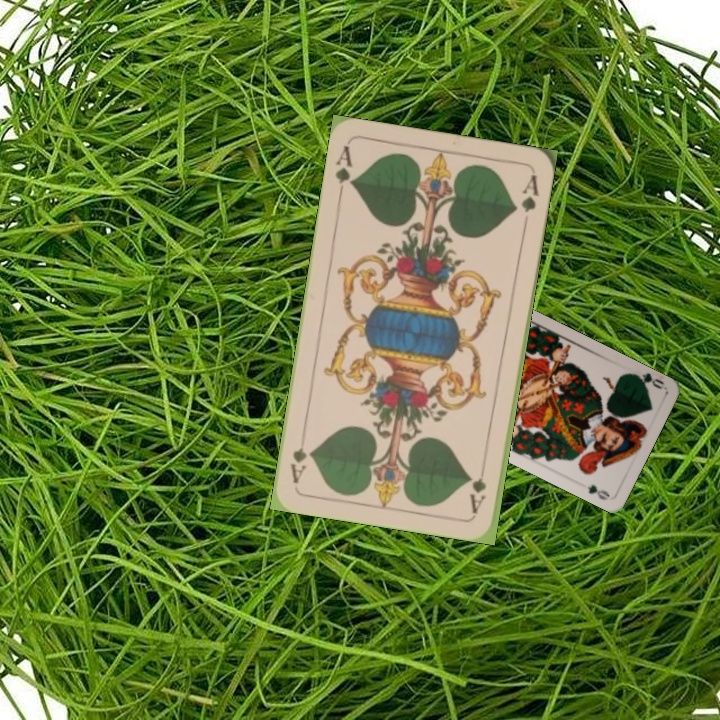GA: (331, 141, 357, 200), (466, 457, 489, 516)
GO: (626, 369, 666, 392)
